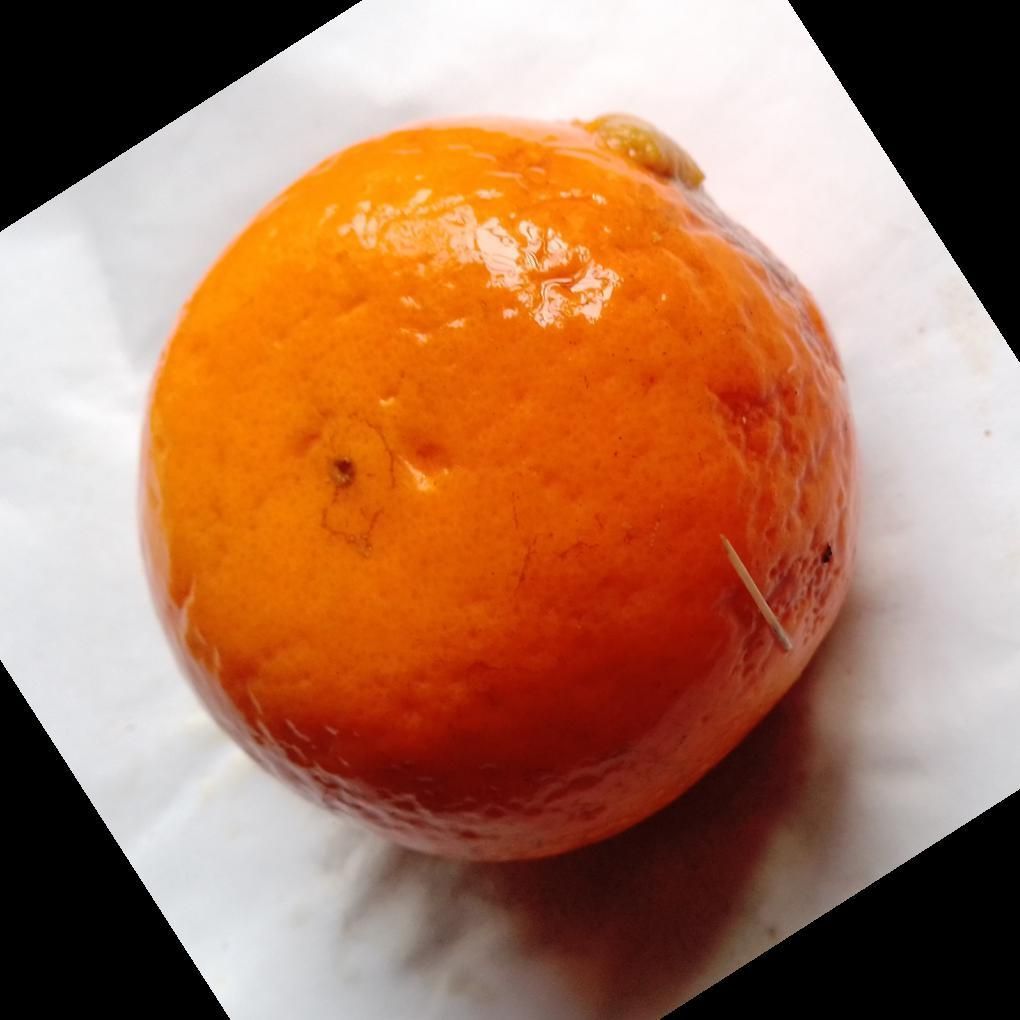FreshOrange: (136, 114, 858, 870)
